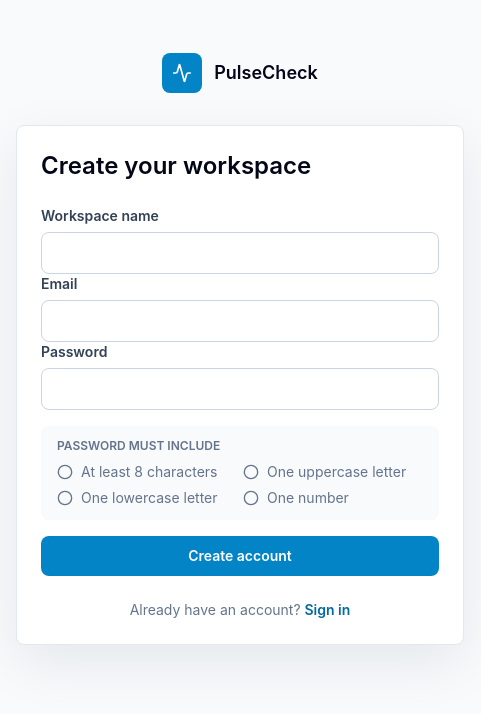
LoginPage › shows a friendly invalid email message on registration
Type "Acme Ops" into the field labelled "Workspace name". click: coordinates (240, 253)
box: [41, 232, 439, 274]
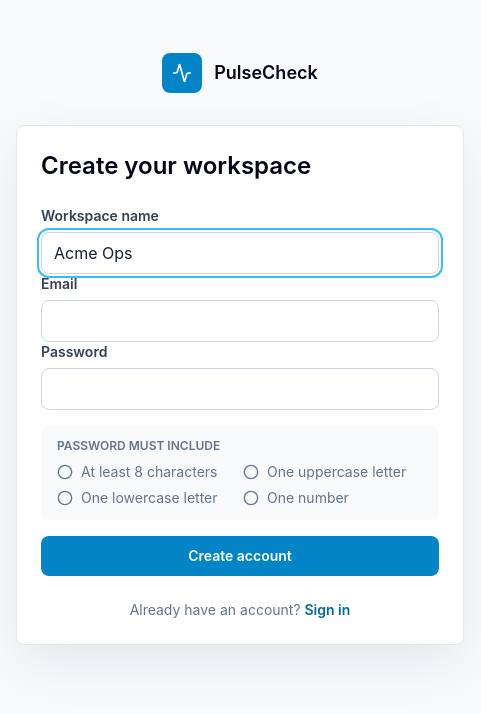
Type "not-an-email" into the field labelled "Email". click: coordinates (240, 321)
box: [41, 300, 439, 342]
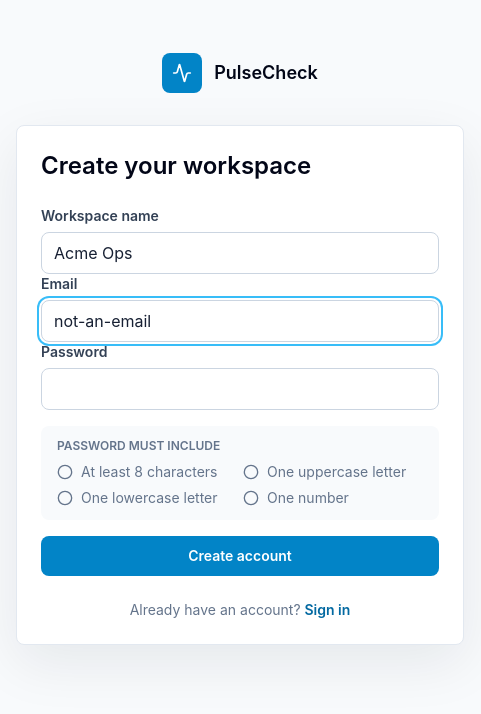
Type "Password1" into the password field labelled "Password". click: coordinates (240, 389)
box: [41, 368, 439, 410]
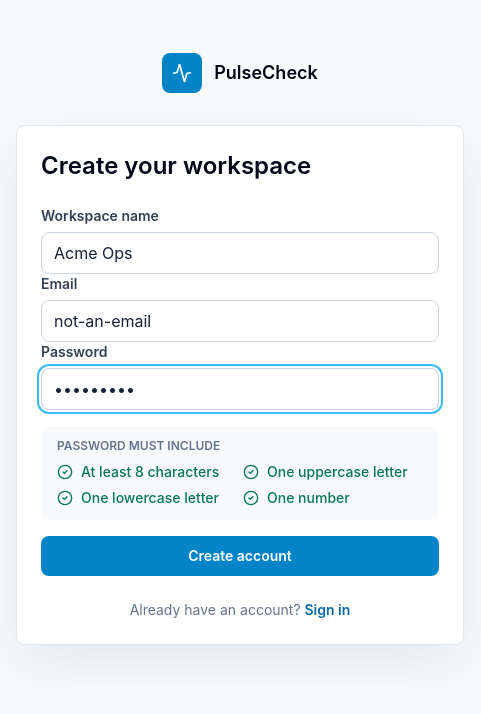
Click the button "Create account". click: coordinates (240, 556)
box: [41, 536, 439, 576]
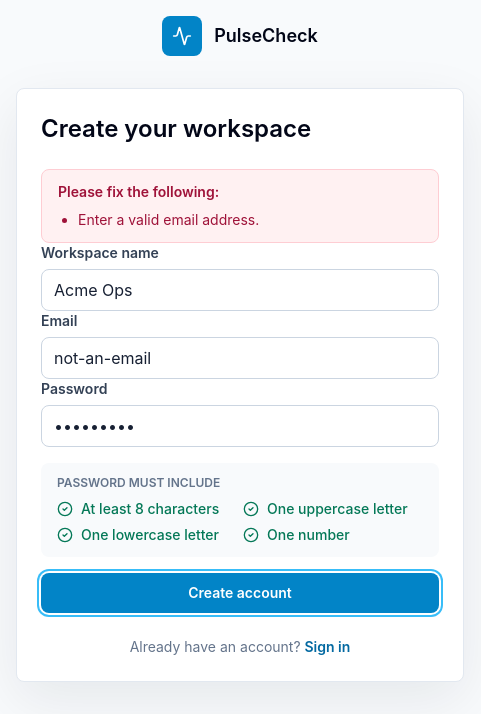
Expected: the list item "Enter a valid email address." is shown, [78, 211, 259, 228]
